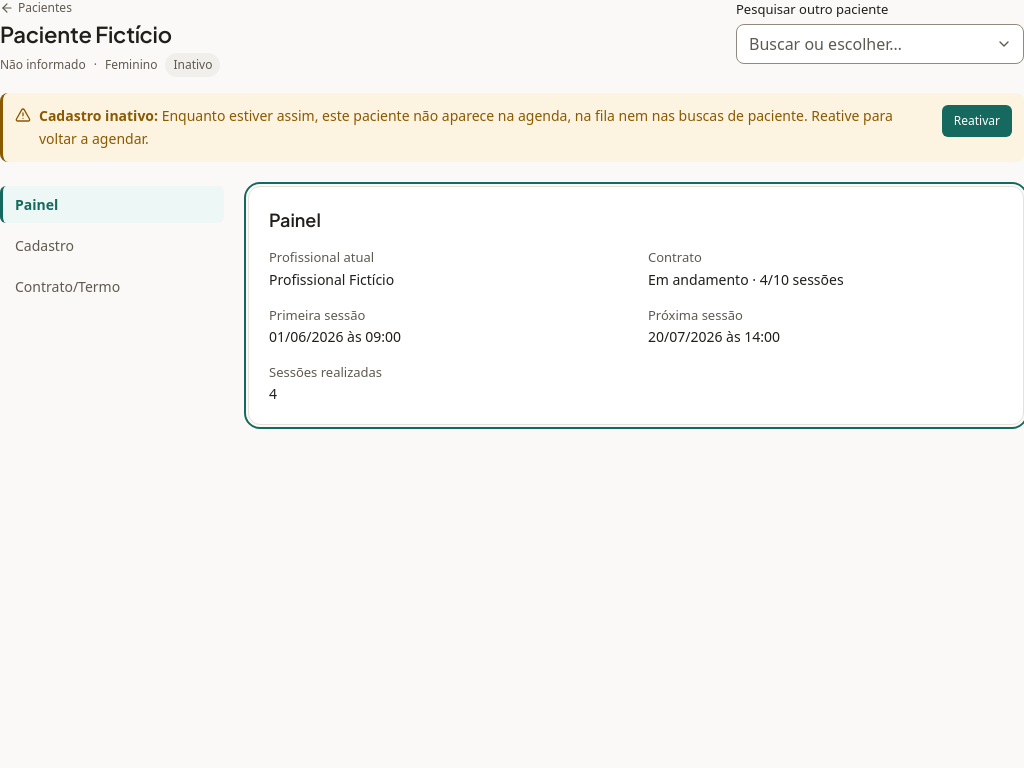
Test case: Ficha do paciente — cadastro inativo › deve reativar pela própria ficha, sem formulário e sem exigir campo do cadastro
Click the button "Reativar".
click(977, 121)  # box [942,105,1012,137]
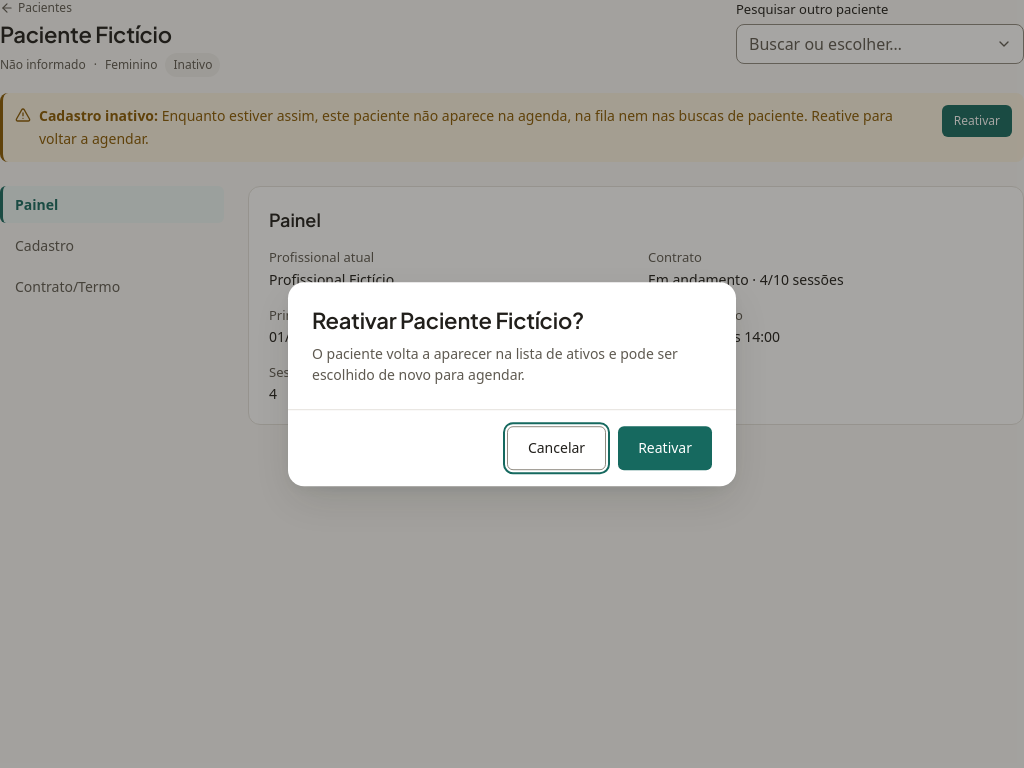
Check: the heading "Reativar Paciente Fictício?" is shown, box [312,306,584,334]
Click the button "Reativar".
click(665, 448)  # box [618,426,712,470]
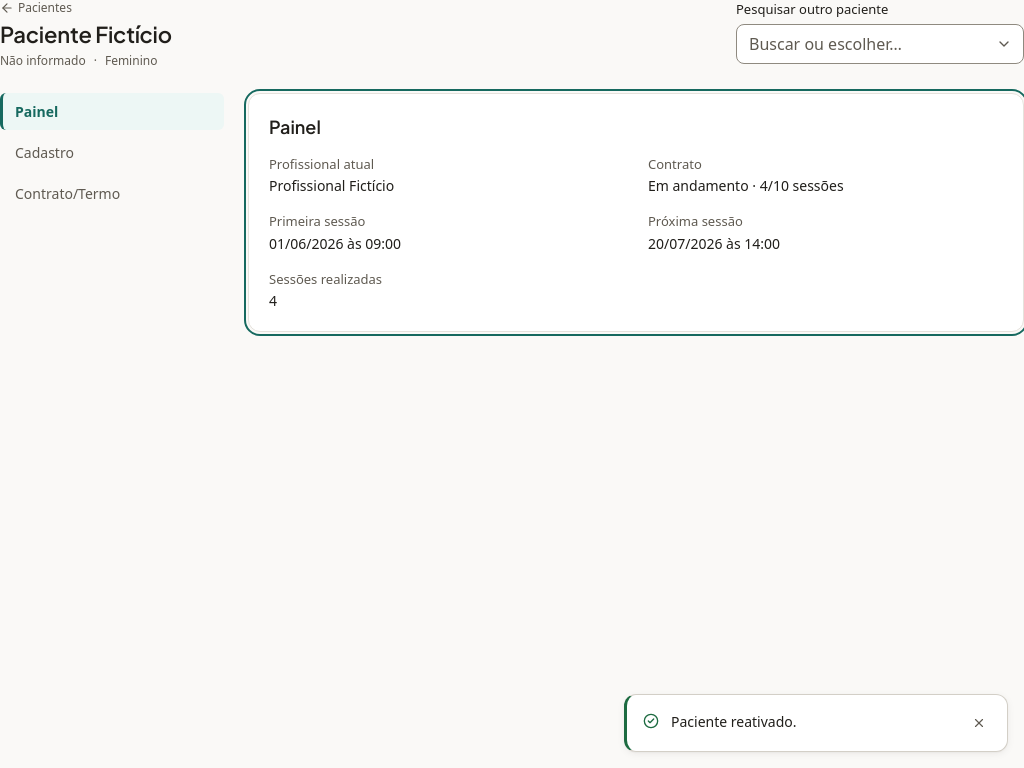
Check: the text "Cadastro inativo:" is gone
